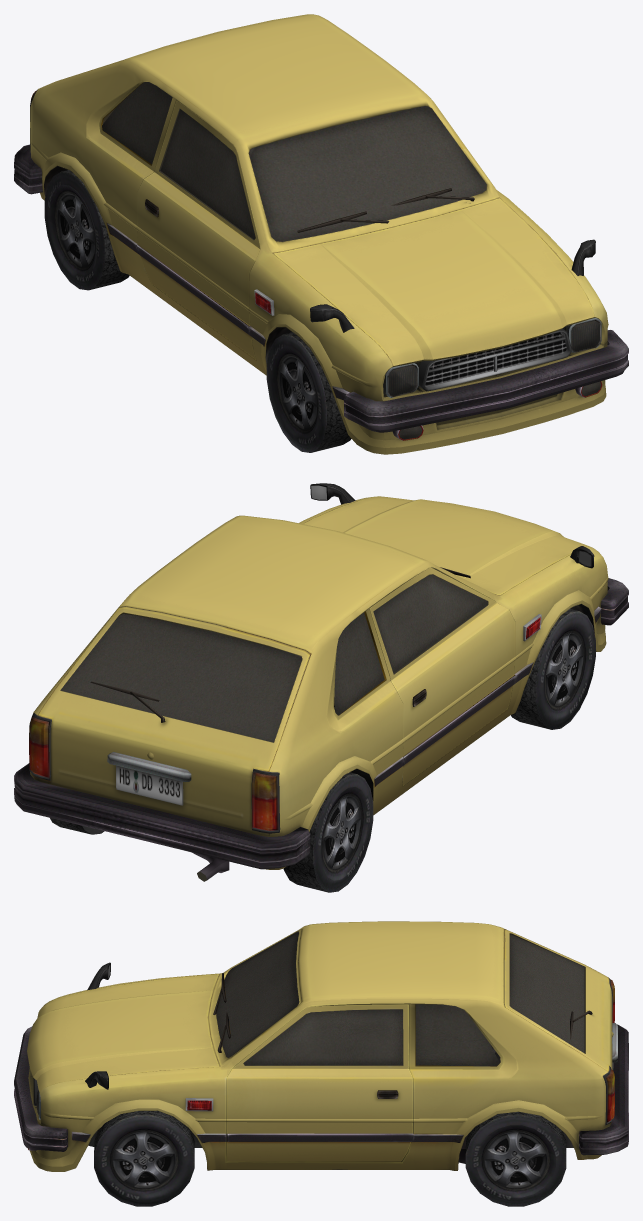
Rendered from hatchback.FBX.
3 views of the same model, one above another, from view 1: azimuth 30°, elevation 25°; view 2: azimuth 150°, elevation 25°; view 3: azimuth 270°, elevation 25° (orthographic). The views are drawn at different scales.
Parts seen in each view (by area): view 1: OS_Car02, winshild, door_R, wheel_F_R, wheel_R_R; view 2: OS_Car02, winshild, door_R, wheel_F_R, wheel_R_R; view 3: OS_Car02, winshild, door_L, wheel_F_L, wheel_R_L.
Part boxes in pixels (<box>): OS_Car02: <box>14,14,628,454</box>; winshild: <box>102,82,601,439</box>; door_R: <box>135,100,260,359</box>; wheel_F_R: <box>266,332,351,452</box>; wheel_R_R: <box>44,170,129,290</box>; OS_Car02: <box>14,483,628,881</box>; winshild: <box>60,574,487,742</box>; door_R: <box>369,568,516,785</box>; wheel_F_R: <box>511,609,595,729</box>; wheel_R_R: <box>283,772,373,892</box>; OS_Car02: <box>14,921,628,1171</box>; winshild: <box>28,931,584,1148</box>; door_L: <box>226,1004,413,1161</box>; wheel_F_L: <box>94,1110,194,1206</box>; wheel_R_L: <box>465,1112,566,1206</box>.
Bounding box in the file's own units: 16.8 × 13.3 × 37.69.
